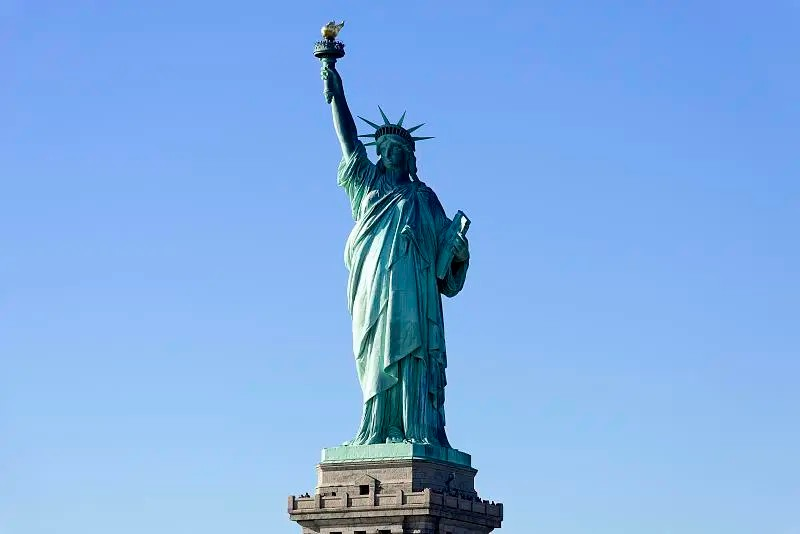SL: (286, 18, 504, 534)
